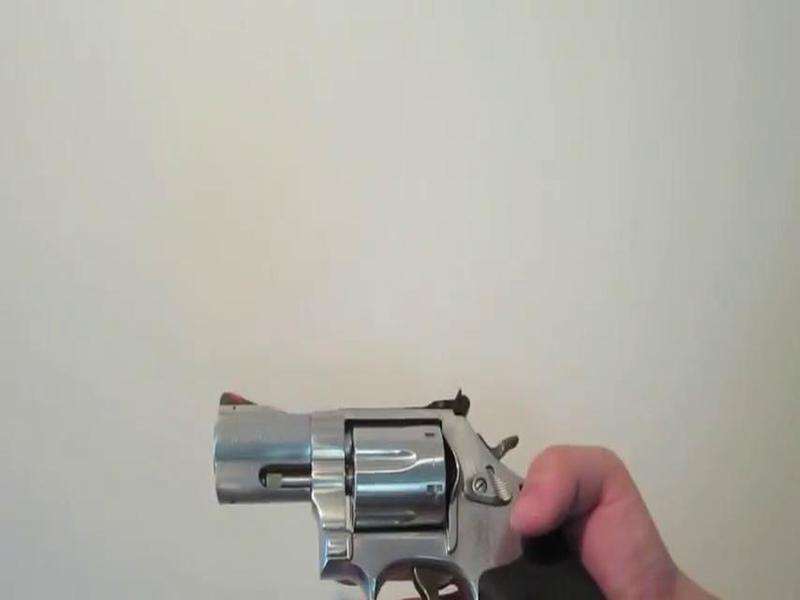Revolver: (184, 364, 603, 600)
